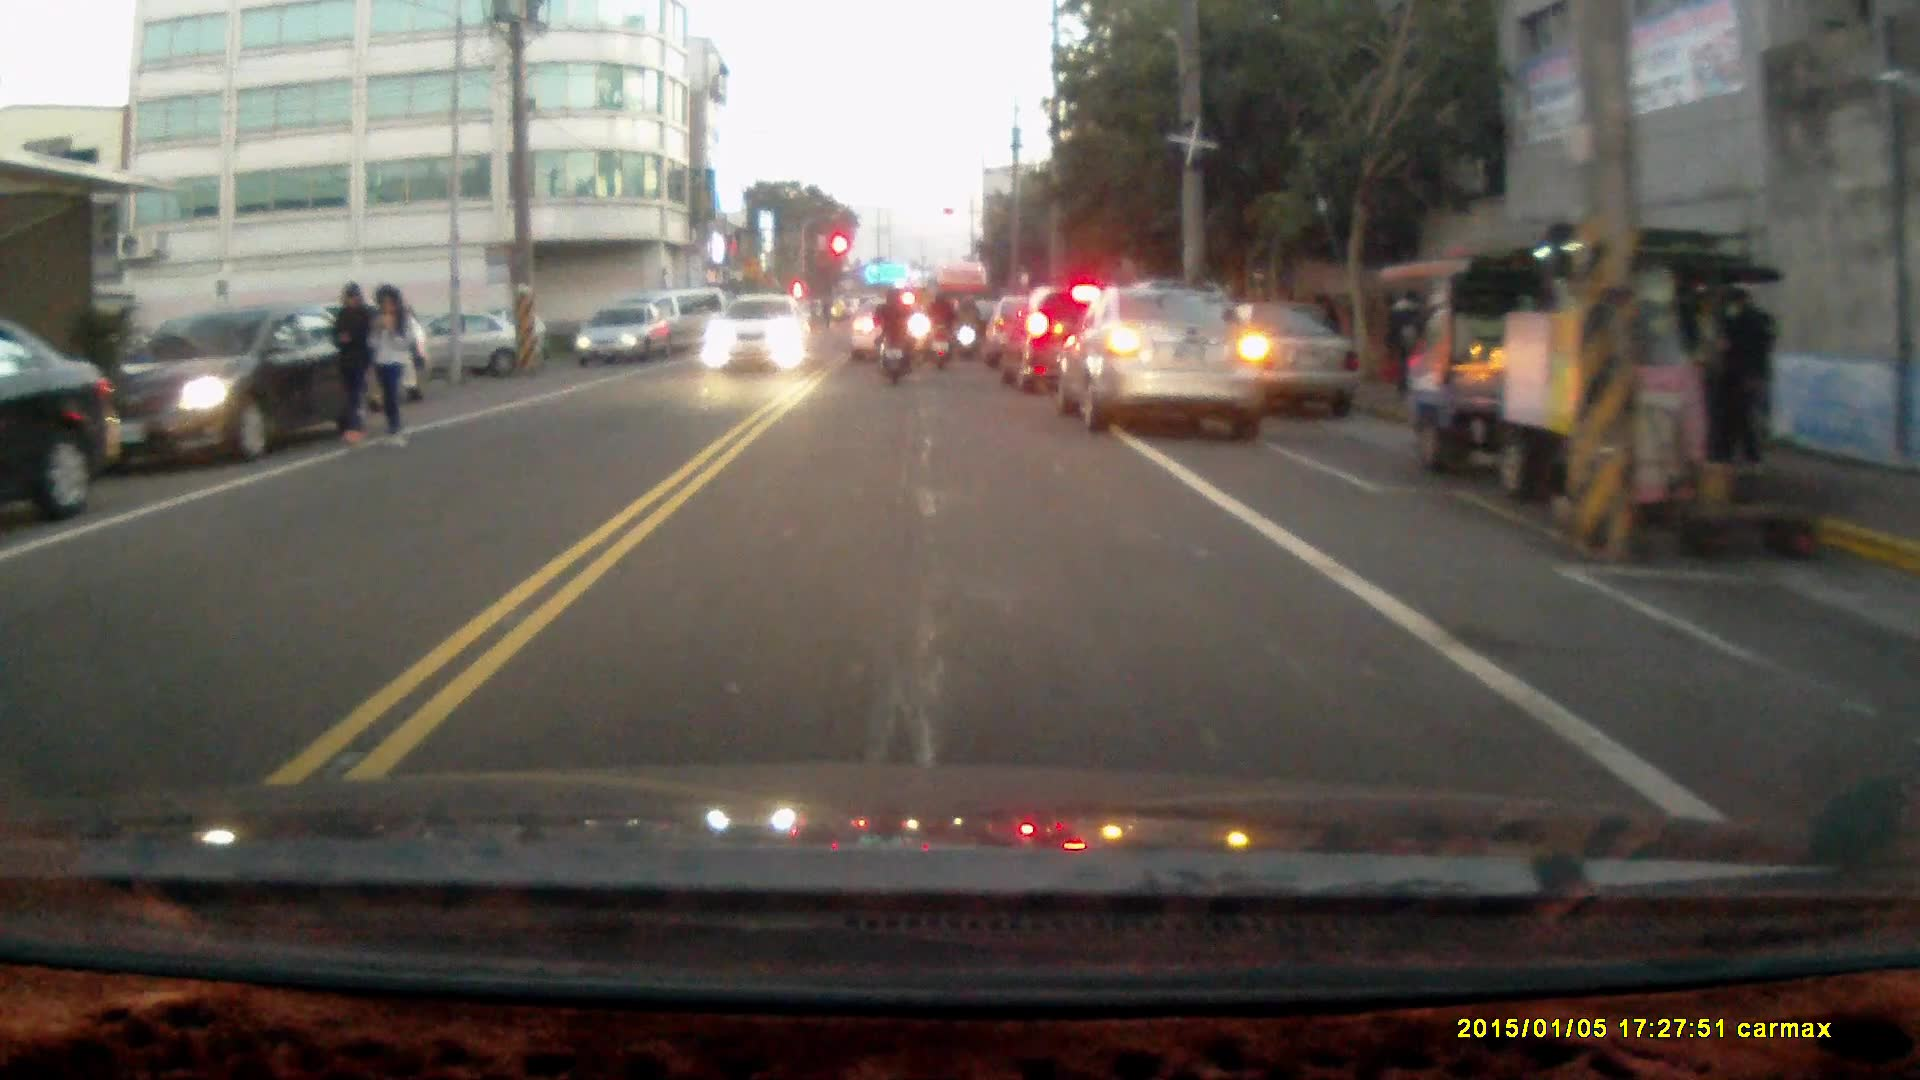pedestrian: (1723, 277, 1784, 467), (329, 276, 376, 449), (366, 281, 413, 450), (1386, 284, 1424, 406)
rider: (870, 283, 914, 385), (923, 289, 956, 369)
vehicle: (1410, 218, 1762, 493), (65, 297, 373, 469), (1064, 276, 1267, 427), (2, 315, 121, 531), (1008, 279, 1175, 392), (700, 295, 809, 371), (850, 294, 935, 359), (576, 304, 666, 364)
